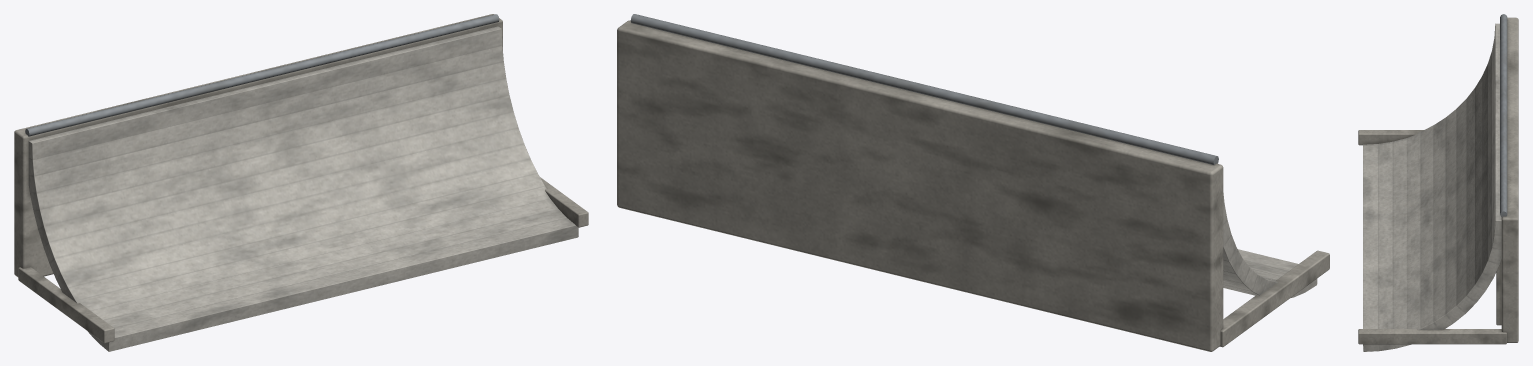
File: skate_cwiartka.glb
3 renders of one model, left to right at view 1: azimuth 30°, elevation 25°; view 2: azimuth 150°, elevation 25°; view 3: azimuth 270°, elevation 25°, orthographic. The views are drawn at different scales.
Visible parts, largest first — view 1: Cwiartka; view 2: Cwiartka; view 3: Cwiartka.
Boxes of the visible parts, box(x1,y1,x2,y2) form: Cwiartka: box(14, 14, 588, 351); Cwiartka: box(617, 14, 1329, 351); Cwiartka: box(1358, 14, 1518, 351).
Bounding box in the file's own units: 4.54 × 1.46 × 1.51.
Materials: 1 (1 with a texture image).
